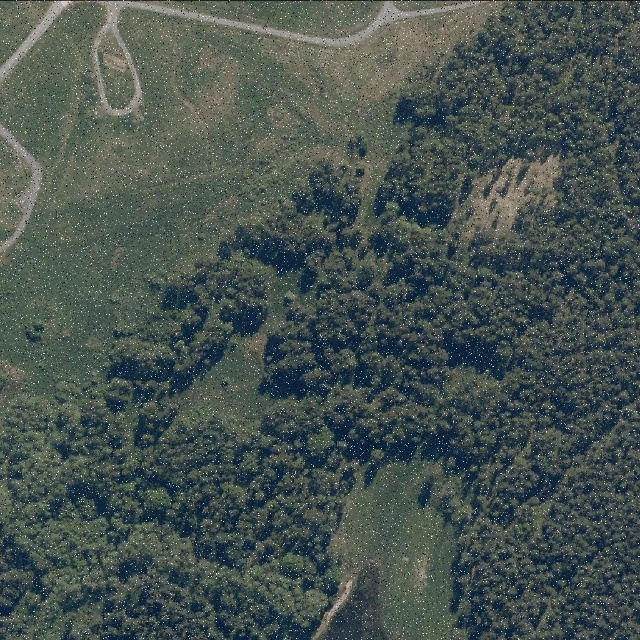vegetation: (0, 1, 638, 640)
